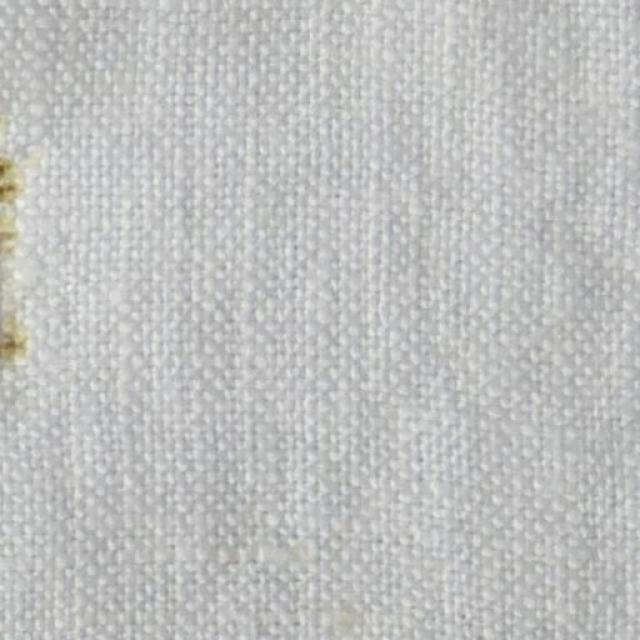Stain: (0, 154, 26, 358)
